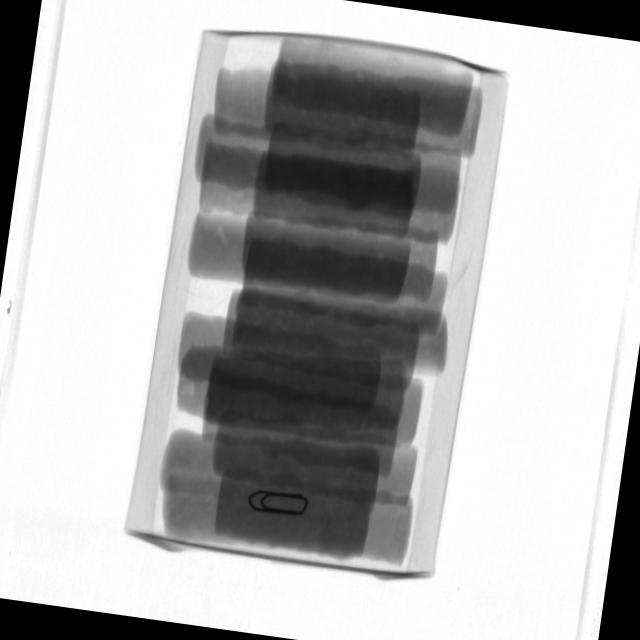ym: (249, 487, 313, 519)
